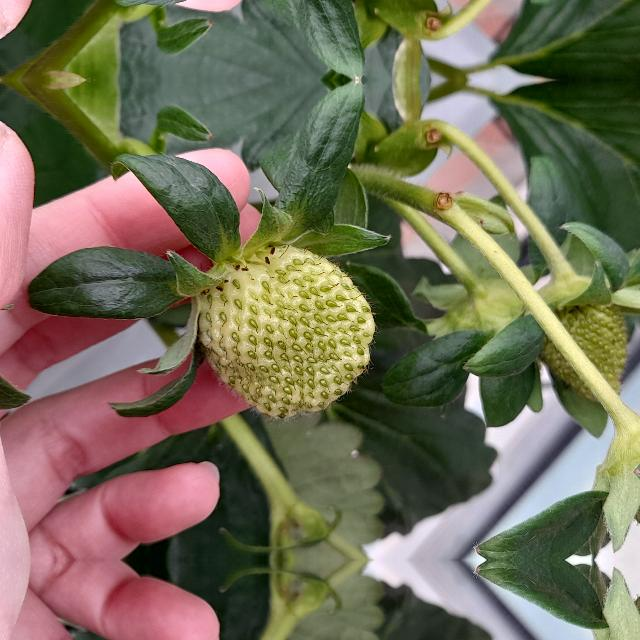Health_25: (198, 244, 374, 418), (528, 277, 628, 401)
